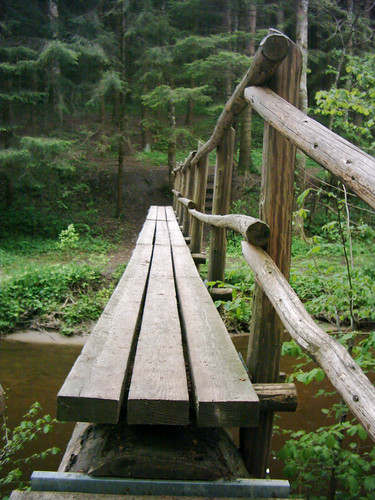bridge: (53, 57, 303, 461)
tree: (89, 1, 172, 209)
vegetation: (1, 1, 108, 303), (295, 1, 373, 326)
